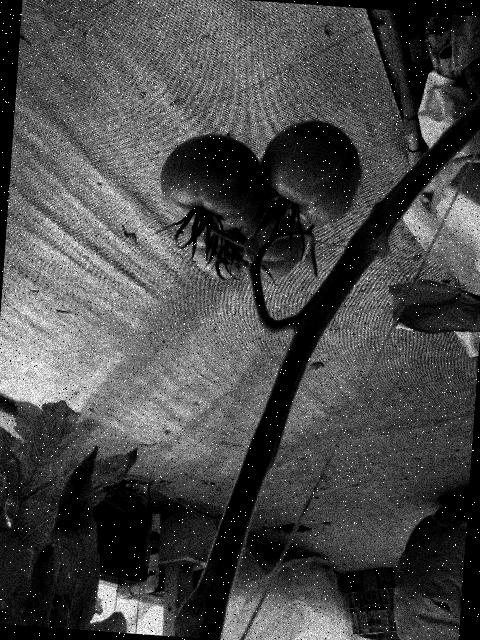b_fully_ripened: (156, 129, 267, 234)
b_green: (181, 179, 312, 284)
b_half_ripened: (254, 117, 365, 228)
